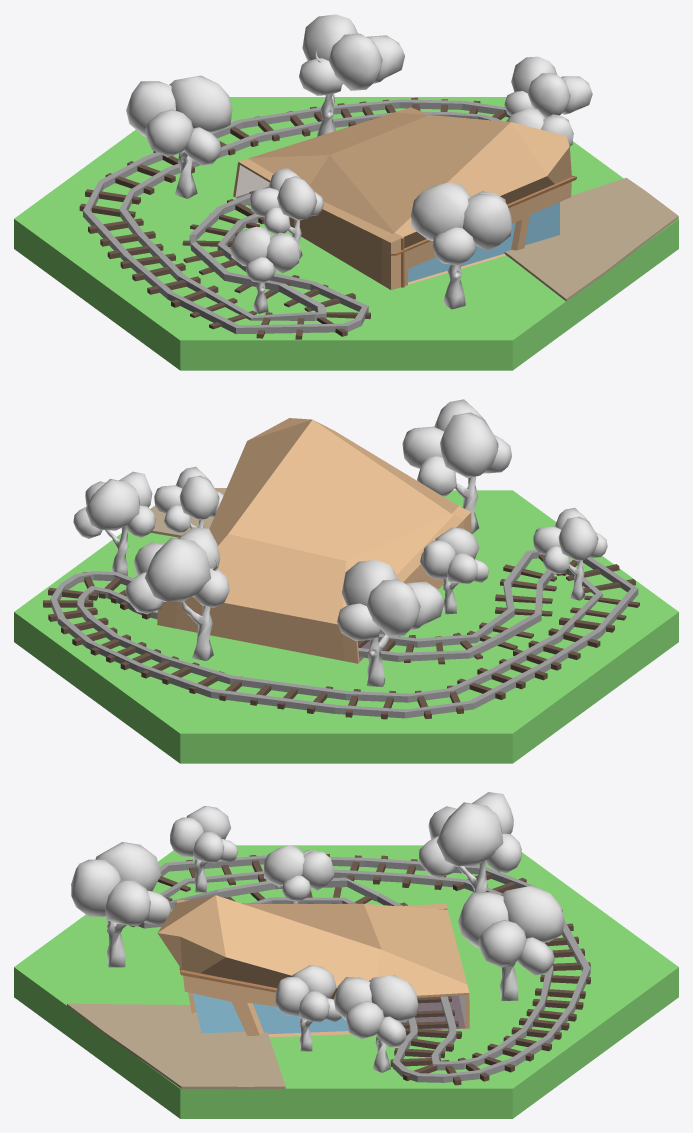
The model's file is TrainStation 1.fbx.
3 renders of one model, top to bottom at view 1: azimuth 30°, elevation 25°; view 2: azimuth 150°, elevation 25°; view 3: azimuth 270°, elevation 25°, orthographic.
Visible parts, largest first — view 1: Hexagon, station, rails.001, Plane, woods strips, Icosphere.004, Icosphere.006, Icosphere.003, Icosphere.014, Icosphere.012, Icosphere.010, Icosphere.002 (+3 smaller); view 2: Hexagon, station, rails.001, woods strips, Icosphere.003, Icosphere.006, Icosphere.004, Icosphere.014, Icosphere.010, Icosphere.002, Icosphere.012, Icosphere.008 (+4 smaller); view 3: Hexagon, station, rails.001, Plane, woods strips, Icosphere.006, Icosphere.004, Icosphere.003, Icosphere.014, Icosphere.010, Icosphere.012, Icosphere.002 (+2 smaller).
Boxes of the visible parts, bbox=[...] form: Hexagon: bbox=[14, 97, 678, 370]; station: bbox=[233, 107, 576, 290]; rails.001: bbox=[83, 99, 510, 334]; Plane: bbox=[504, 177, 678, 301]; woods strips: bbox=[79, 97, 505, 339]; Icosphere.004: bbox=[126, 75, 232, 165]; Icosphere.006: bbox=[299, 14, 404, 95]; Icosphere.003: bbox=[411, 182, 512, 265]; Icosphere.014: bbox=[504, 56, 592, 117]; Icosphere.012: bbox=[249, 167, 323, 234]; Icosphere.010: bbox=[231, 226, 299, 282]; Icosphere.002: bbox=[506, 108, 573, 146]; Hexagon: bbox=[14, 490, 678, 763]; station: bbox=[157, 418, 471, 663]; rails.001: bbox=[50, 549, 638, 718]; woods strips: bbox=[43, 554, 639, 719]; Icosphere.003: bbox=[402, 399, 511, 496]; Icosphere.006: bbox=[125, 527, 229, 614]; Icosphere.004: bbox=[337, 560, 444, 640]; Icosphere.014: bbox=[73, 471, 155, 538]; Icosphere.010: bbox=[533, 507, 607, 574]; Icosphere.002: bbox=[154, 466, 223, 533]; Icosphere.012: bbox=[420, 527, 488, 583]; Icosphere.008: bbox=[181, 559, 218, 660]; Hexagon: bbox=[14, 845, 678, 1118]; station: bbox=[157, 895, 469, 1037]; rails.001: bbox=[138, 855, 590, 1082]; Plane: bbox=[67, 1003, 285, 1089]; woods strips: bbox=[129, 854, 590, 1085]; Icosphere.006: bbox=[458, 885, 564, 975]; Icosphere.004: bbox=[418, 792, 521, 878]; Icosphere.003: bbox=[71, 842, 171, 926]; Icosphere.014: bbox=[334, 975, 418, 1047]; Icosphere.010: bbox=[170, 806, 237, 863]; Icosphere.012: bbox=[263, 845, 334, 901]; Icosphere.002: bbox=[275, 965, 341, 1022].
Bounding box in the file's own units: 20000 × 17401 × 4994.
